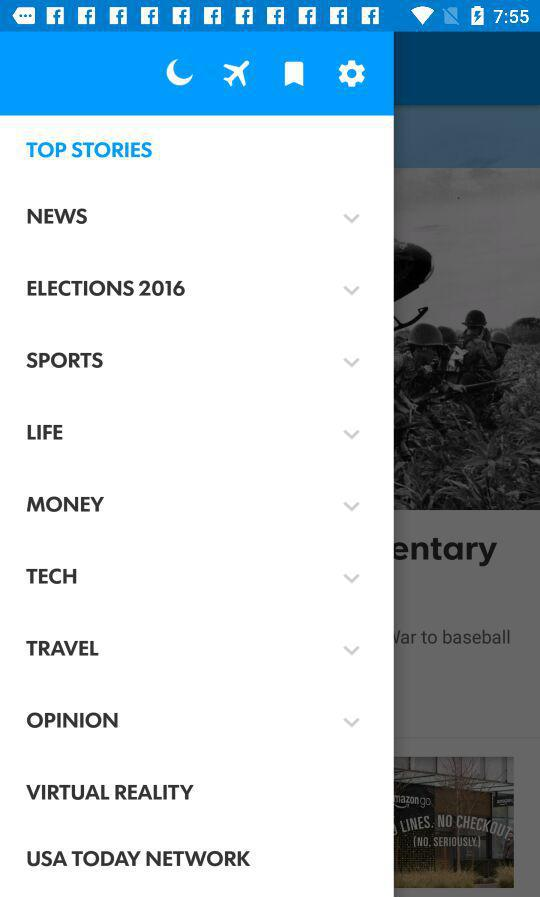Drawer: (1, 33, 394, 897)
Icon: (338, 60, 366, 89), (284, 61, 305, 89), (343, 717, 361, 730), (343, 645, 361, 658), (343, 285, 361, 298), (343, 573, 361, 585), (343, 501, 361, 513), (343, 429, 361, 441), (343, 357, 361, 369), (343, 213, 361, 225)
Image: (166, 59, 195, 89), (223, 60, 251, 90)
Text: (27, 849, 252, 868), (27, 280, 187, 298), (26, 784, 195, 801), (26, 141, 154, 160), (27, 711, 120, 729), (26, 352, 105, 370), (27, 496, 106, 513), (26, 640, 100, 657), (27, 208, 89, 226), (26, 567, 79, 586), (27, 424, 65, 441)
UpperTaskBar: (1, 1, 540, 33)
